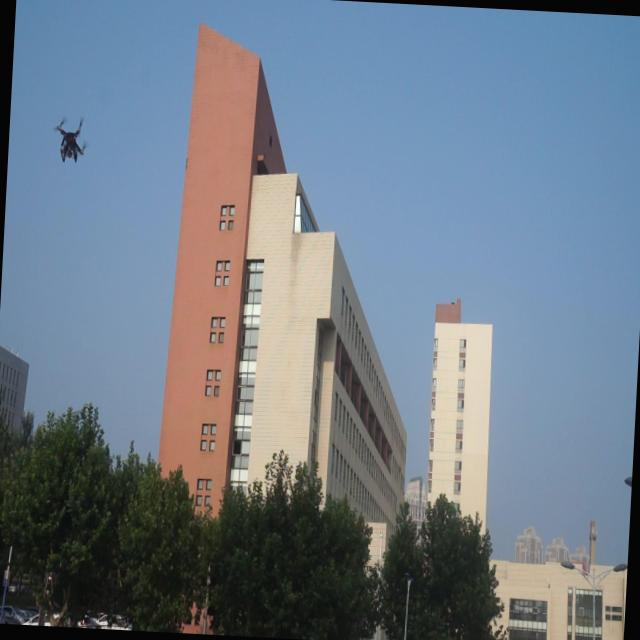drone: (54, 116, 90, 168)
